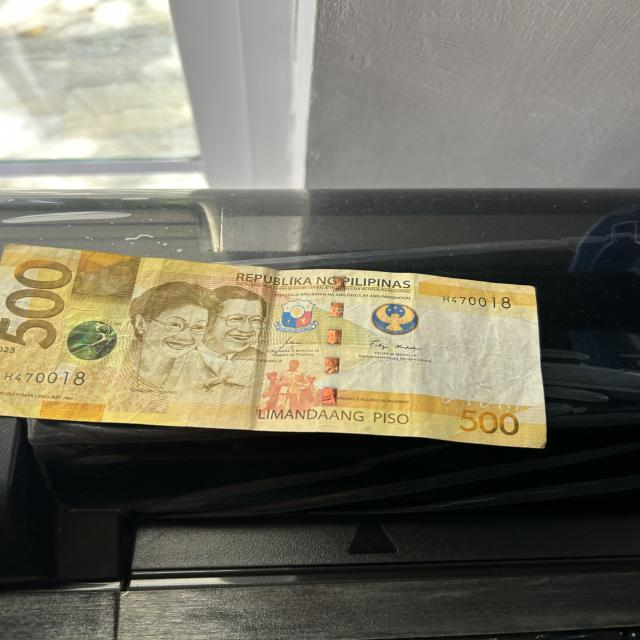concealed_value: (76, 258, 134, 304)
optically_variable_device: (67, 318, 115, 362)
watermark: (419, 293, 532, 410)
